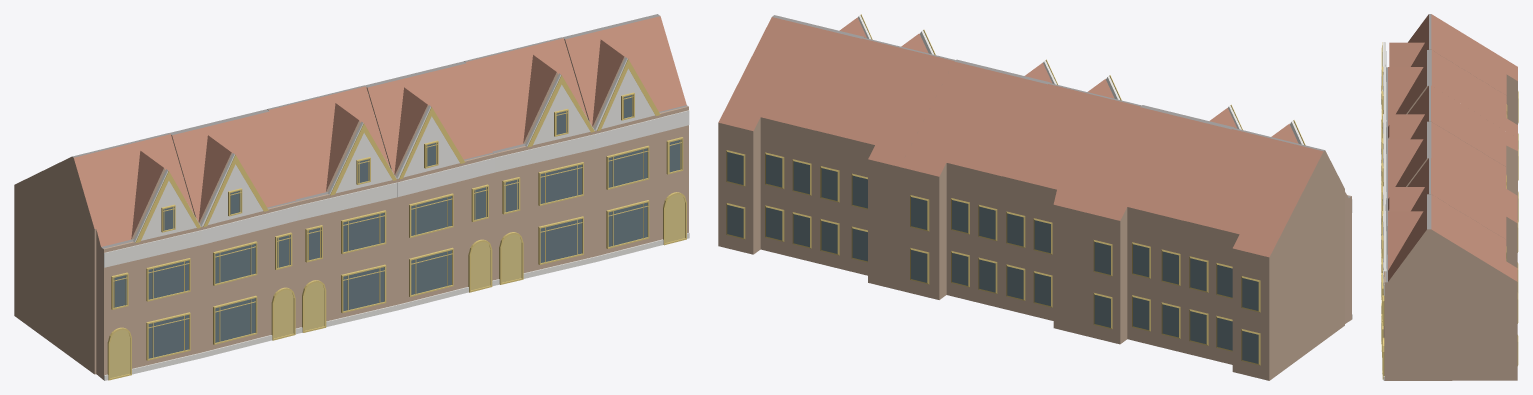
File: chunk-face-zaanhof-23-34.glb
3 views of the same model, side by side, from view 1: azimuth 30°, elevation 25°; view 2: azimuth 150°, elevation 25°; view 3: azimuth 270°, elevation 25° (orthographic). The views are drawn at different scales.
Visible parts, largest first — view 1: face-zaanhof-23-34; view 2: face-zaanhof-23-34; view 3: face-zaanhof-23-34.
Part boxes in pixels (x1,y1,x2,y2): face-zaanhof-23-34: (14, 14, 689, 380); face-zaanhof-23-34: (718, 14, 1352, 380); face-zaanhof-23-34: (1381, 14, 1518, 380).
Bounding box in the file's own units: 35.56 × 11.69 × 9.59.
